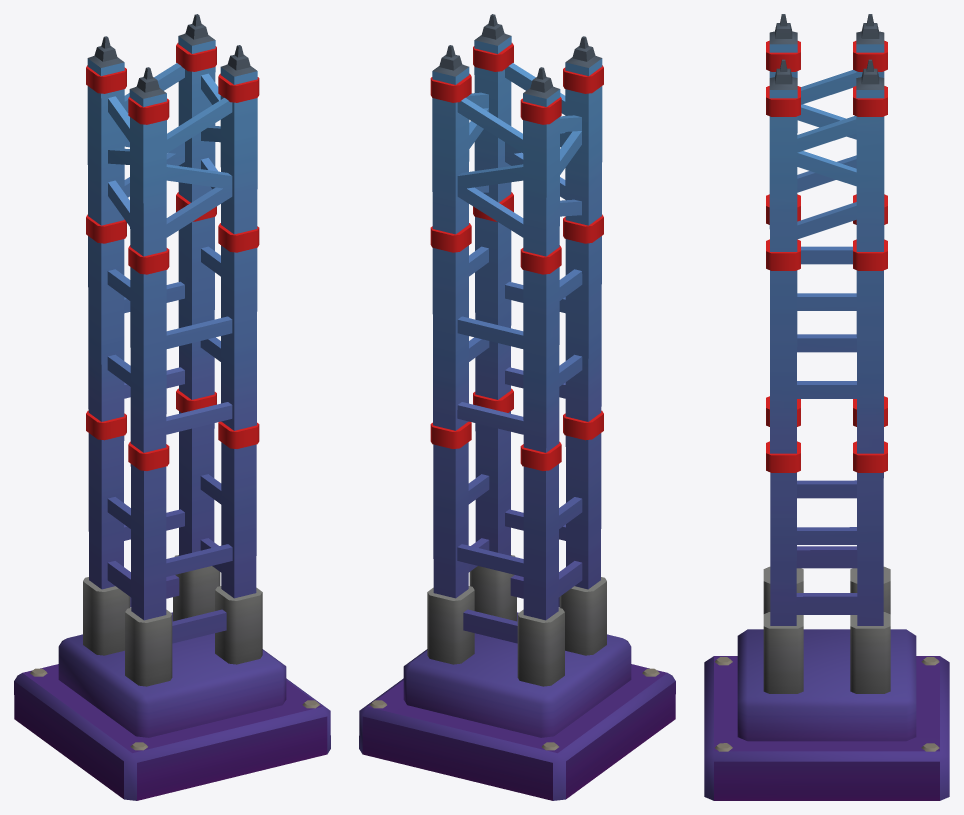
The model's file is SignalTower_2_B.fbx.
The picture shows the model from 3 angles, left to right: view 1: azimuth 30°, elevation 25°; view 2: azimuth 150°, elevation 25°; view 3: azimuth 270°, elevation 25°; orthographic projection. The views are drawn at different scales.
Visible parts, largest first — view 1: SignalTower_2_B; view 2: SignalTower_2_B; view 3: SignalTower_2_B.
Boxes of the visible parts, box(x1,y1,x2,y2) form: SignalTower_2_B: box(14, 14, 330, 800); SignalTower_2_B: box(359, 14, 675, 800); SignalTower_2_B: box(704, 14, 949, 800).
Size of the model in its own units: 96.58 by 309 by 96.56.
